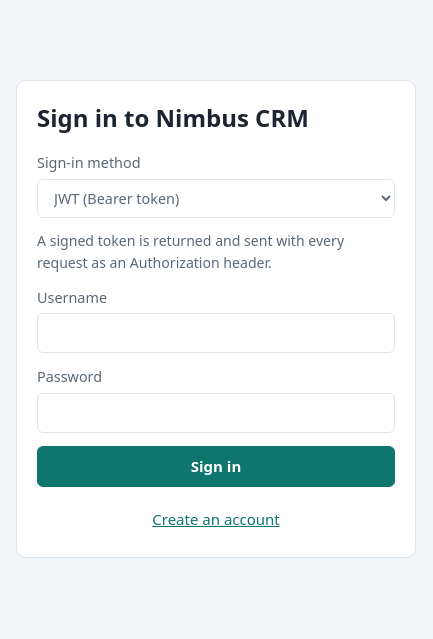
Scenario: SignInPage › puts each server field message beside the right input when registering
Click the button "Create an account".
click(216, 519)  # box [37,500,395,539]
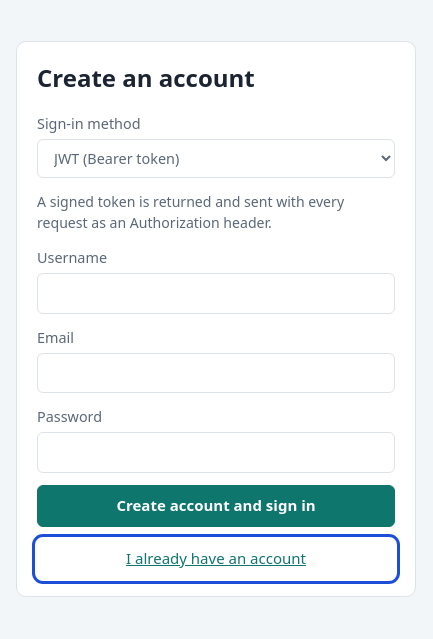
Type "x" into the field labelled "Username".
click(216, 294); type("x")  # box [37,273,395,314]
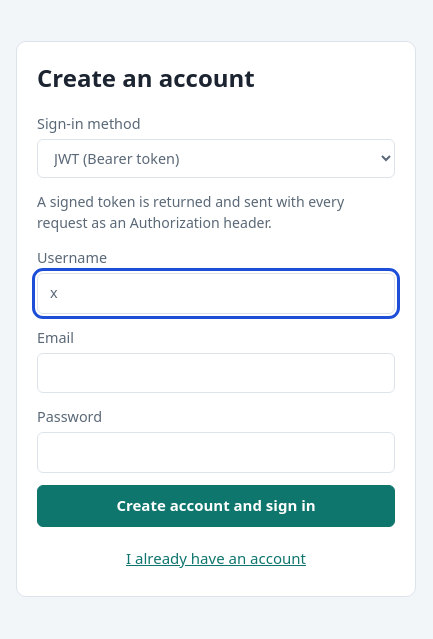
Type "x@example.com" into the field labelled "Email".
click(216, 373); type("x@example.com")  # box [37,353,395,393]
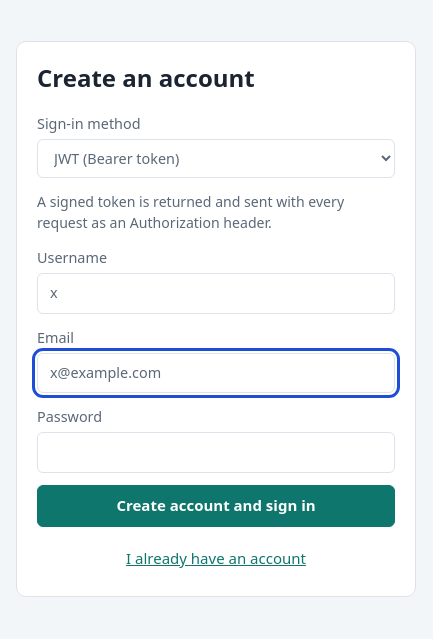
Type "short" into the password field labelled "Password".
click(216, 452); type("short")  # box [37,432,395,473]
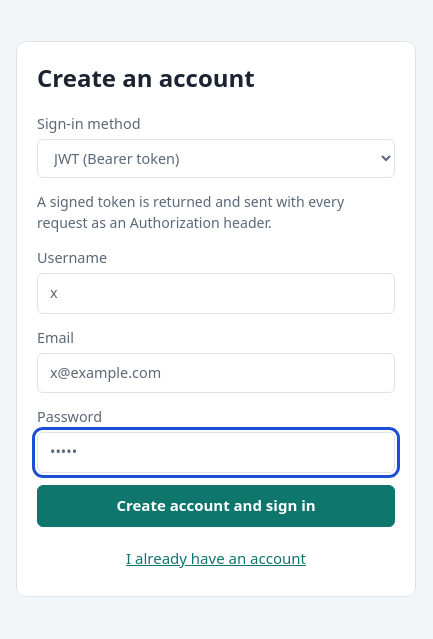
Click the button "Create account and sign in".
click(216, 506)  # box [37,485,395,527]
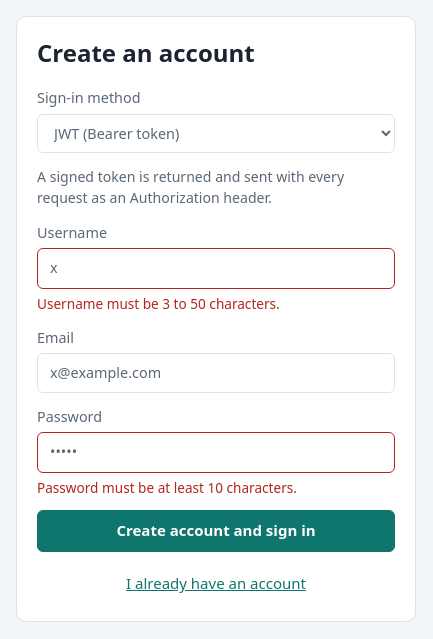
Check: the text "Username must be 3 to 50 characters." is shown, box [37,294,280,313]
Check: the text "Password must be at least 10 characters." is shown, box [37,478,297,496]
